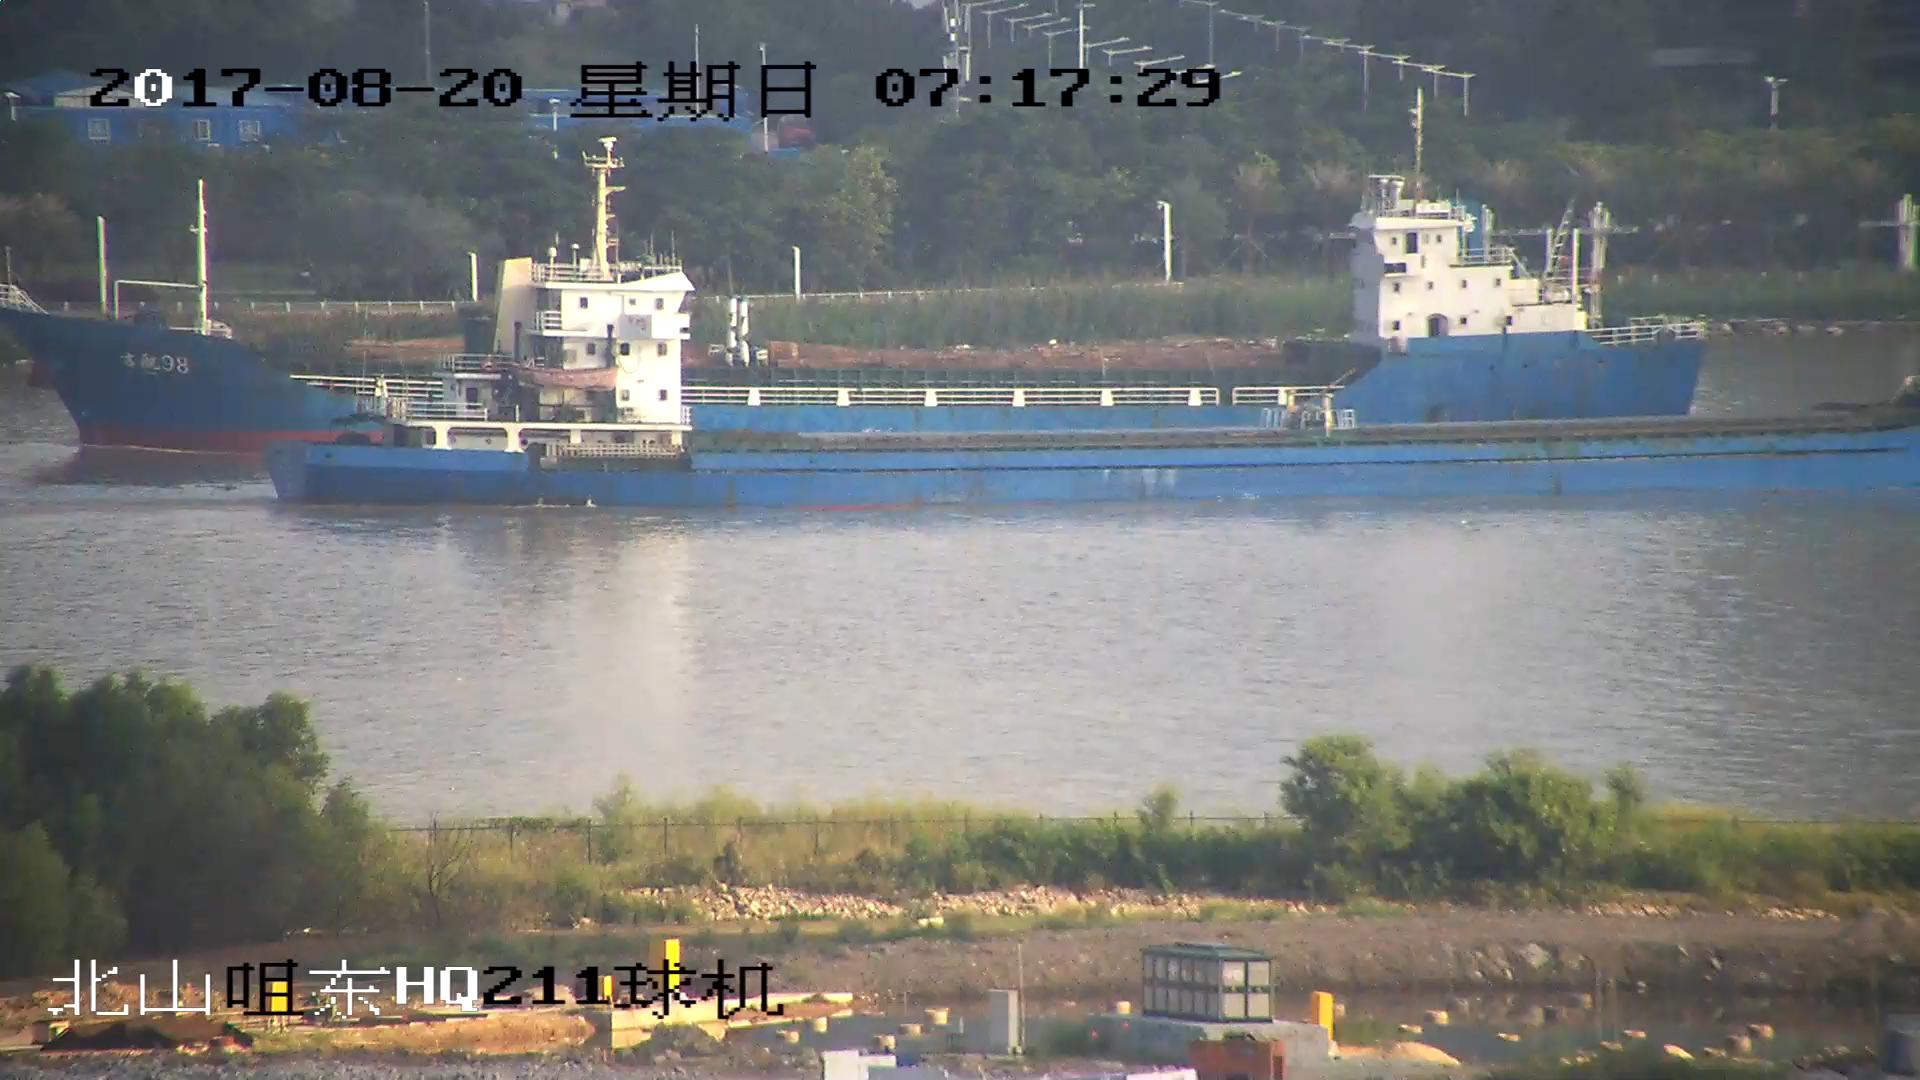general cargo ship: (245, 154, 1920, 510), (1, 180, 1701, 416)
